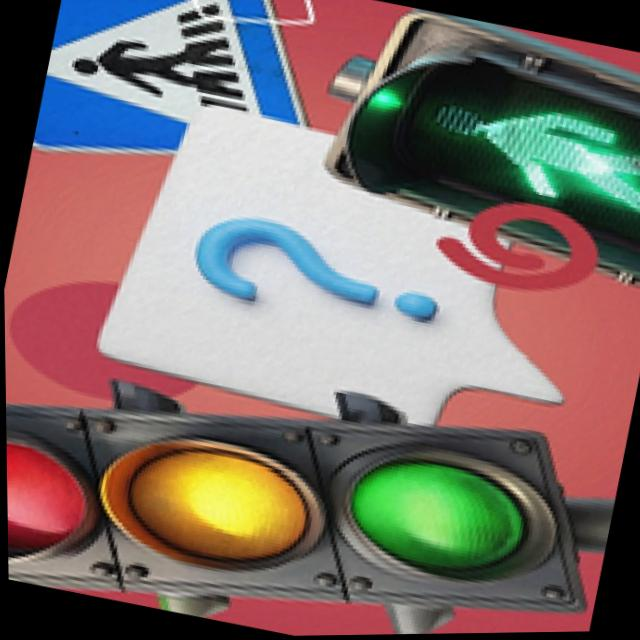green_light: (334, 379, 558, 636)
red_light: (4, 345, 121, 592)
yellow_light: (92, 320, 352, 639)
